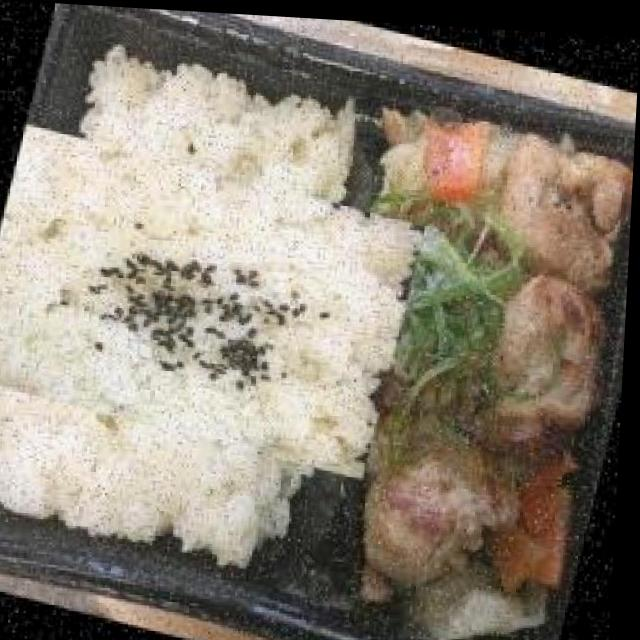rice: (0, 77, 395, 514)
